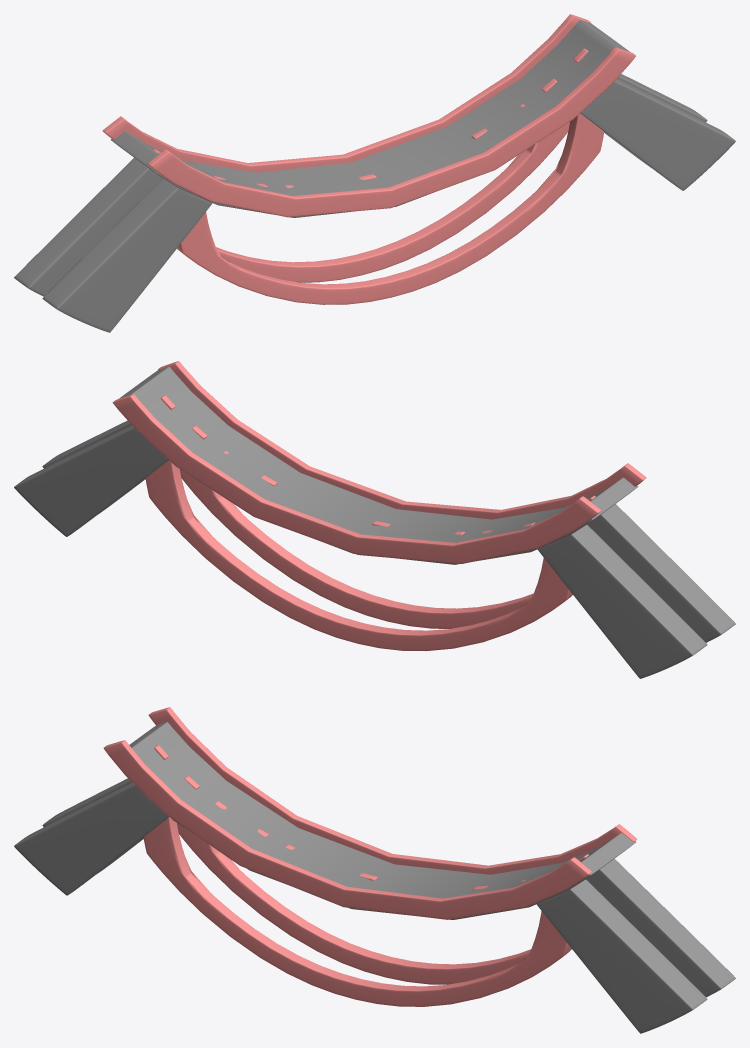
File: Bridge02.FBX
3 views of the same model, one above another, from view 1: azimuth 30°, elevation 25°; view 2: azimuth 150°, elevation 25°; view 3: azimuth 330°, elevation 25° (orthographic).
Parts seen in each view (by area): view 1: Level03-2; view 2: Level03-2; view 3: Level03-2.
Boxes of the visible parts, box(x1,y1,x2,y2) form: Level03-2: box(14, 14, 735, 332); Level03-2: box(14, 361, 735, 678); Level03-2: box(14, 707, 735, 1033).
Size of the model in its own units: 192 by 55.43 by 23.96.
